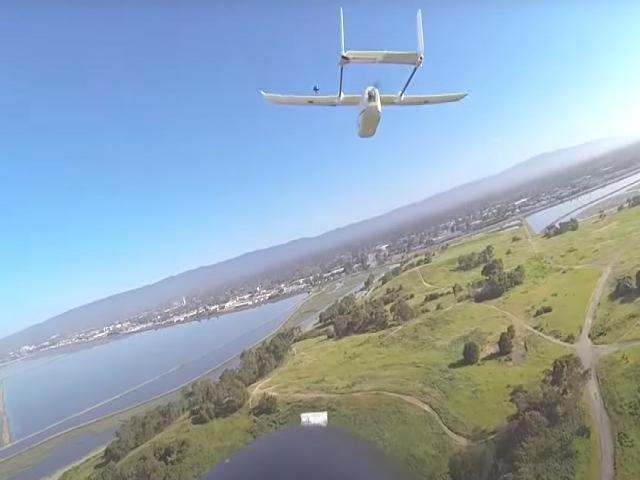iha: (249, 3, 474, 140)
